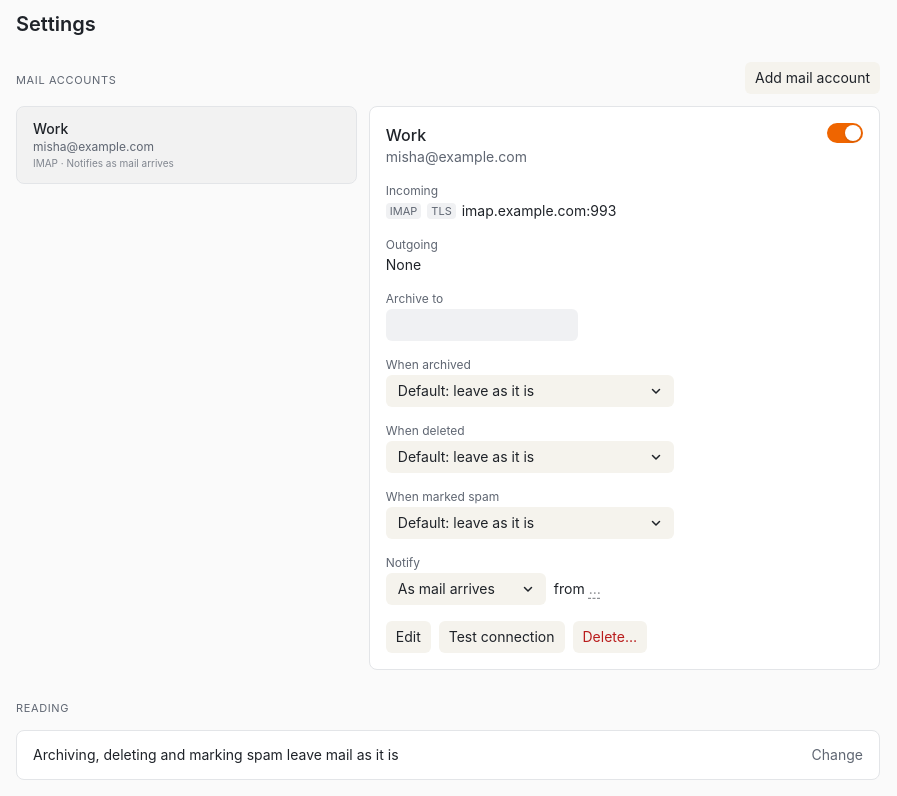
settings › turns an account off and on
What coordinates should you click on to do the following:
click the switch named "Turned on"
I would click on:
 (845, 133)
Its box is [827,123,863,143].
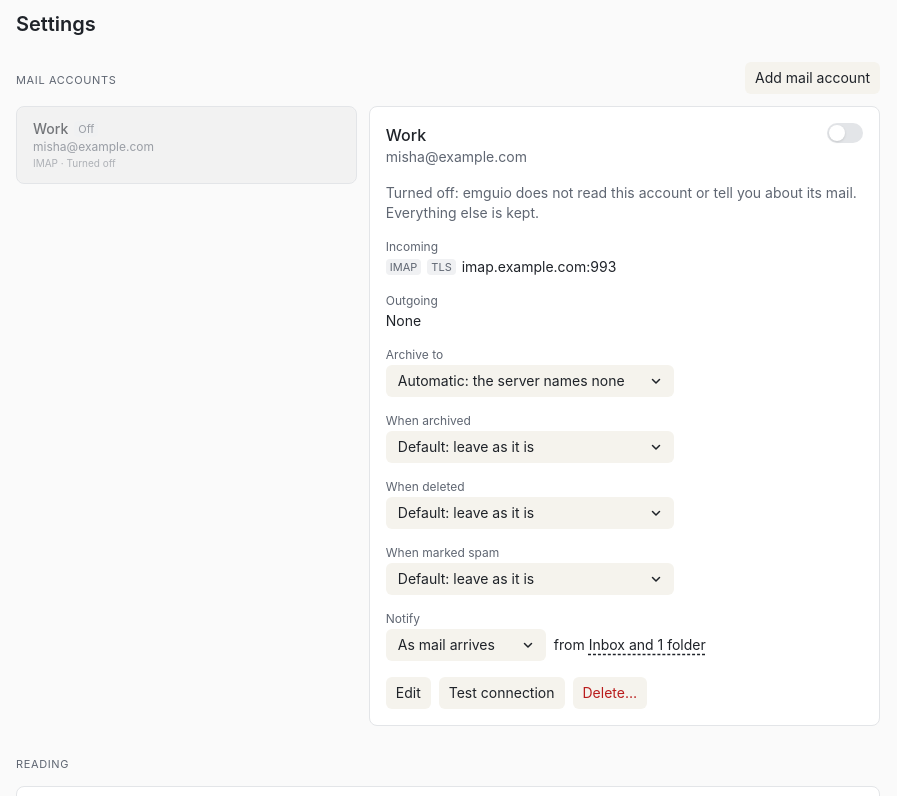
Expected: the text "Turned off: emguio does not read this account" is shown, [386,184,857,221]
Expected: the text "Off" is shown, [74,121,98,137]
What coordinates should you click on to do the following:
click the switch named "Turned on"
I would click on:
 (845, 133)
Its box is [827,123,863,143].
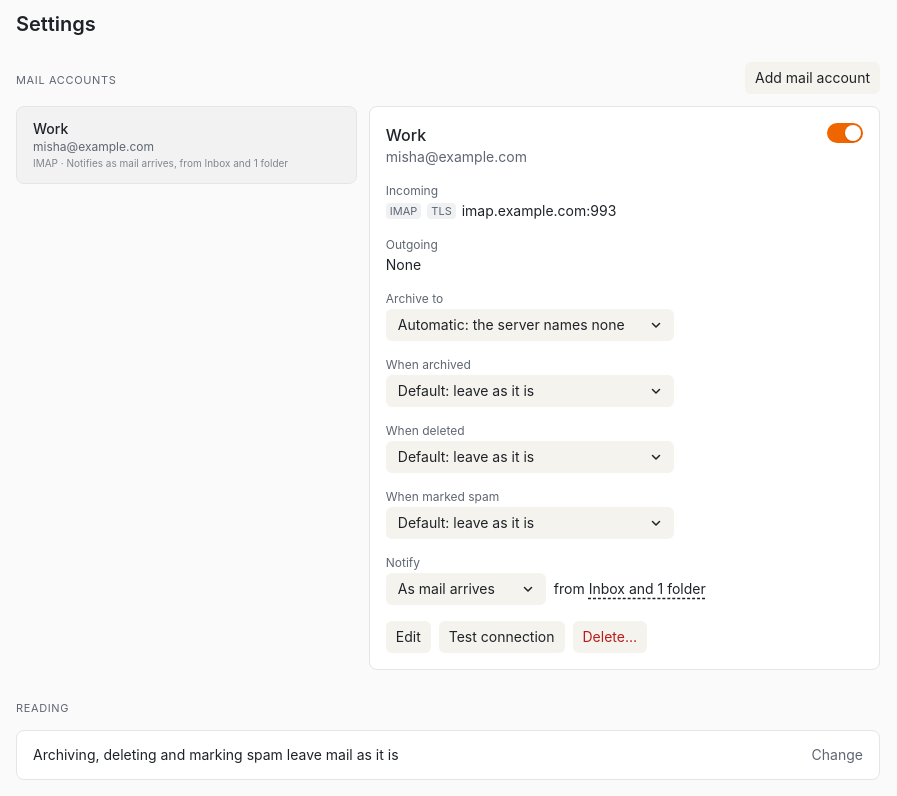
Expected: the text "Off" is gone
